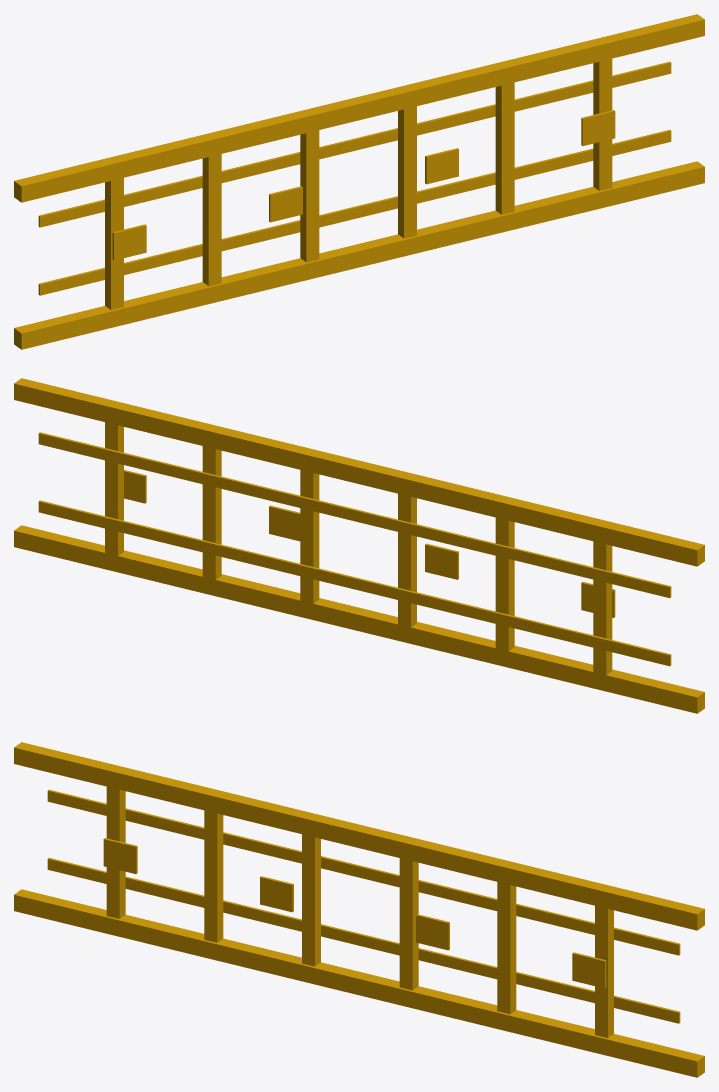
The model's file is skid_production_v1.glb.
3 renders of one model, top to bottom at view 1: azimuth 30°, elevation 25°; view 2: azimuth 150°, elevation 25°; view 3: azimuth 330°, elevation 25°, orthographic.
Parts seen in each view (by area): view 1: skid_production_v1; view 2: skid_production_v1; view 3: skid_production_v1.
Boxes of the visible parts, left/top/right/bottom form: skid_production_v1: left=14, top=14, right=704, bottom=349; skid_production_v1: left=14, top=378, right=704, bottom=713; skid_production_v1: left=14, top=742, right=704, bottom=1077.
Size of the model in its own units: 5.25 by 1.2 by 0.14.
